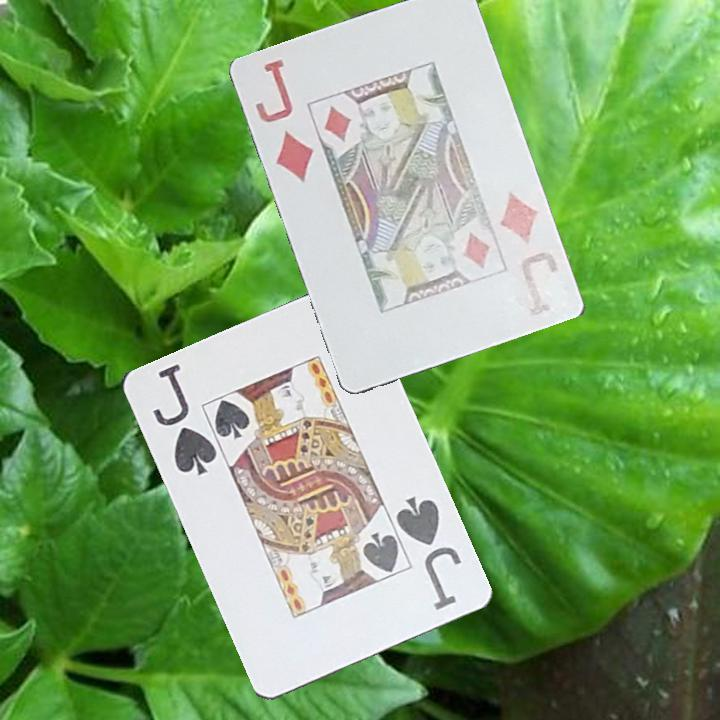Jd: (497, 188, 563, 320), (252, 55, 318, 186)
Js: (391, 492, 464, 613), (148, 360, 219, 479)
